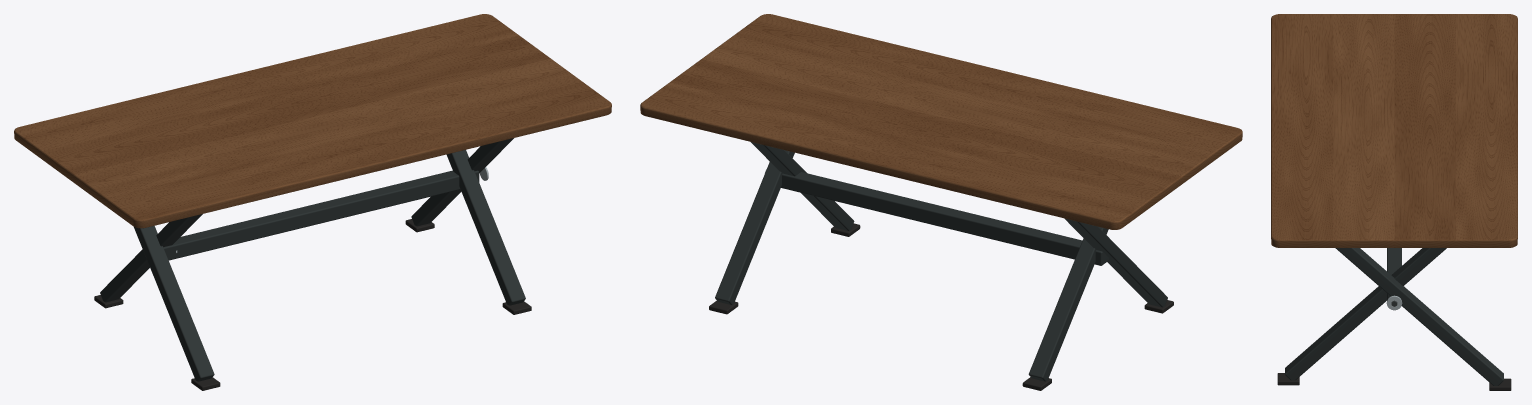
The picture shows the model from 3 angles, left to right: view 1: azimuth 30°, elevation 25°; view 2: azimuth 150°, elevation 25°; view 3: azimuth 270°, elevation 25°; orthographic projection. The views are drawn at different scales.
Visible parts, largest first — view 1: Walnut cross-leg dining top, Longitudinal X-frame tie, Crossed steel blade, Crossed steel blade.002, Crossed steel blade.001, Crossed steel blade.003; view 2: Walnut cross-leg dining top, Longitudinal X-frame tie, Crossed steel blade.003, Crossed steel blade.001, Crossed steel blade, Crossed steel blade.002; view 3: Walnut cross-leg dining top, Crossed steel blade.003, Crossed steel blade.002, Longitudinal X-frame tie.
Part boxes in pixels (x1,y1,x2,y2): Walnut cross-leg dining top: (14,14,611,228); Longitudinal X-frame tie: (163,170,479,260); Crossed steel blade: (134,225,214,381); Crossed steel blade.002: (446,150,525,305); Crossed steel blade.001: (100,214,202,302); Crossed steel blade.003: (411,138,513,226); Walnut cross-leg dining top: (640,14,1242,229); Longitudinal X-frame tie: (781,172,1108,265); Crossed steel blade.003: (715,150,794,304); Crossed steel blade.001: (1028,226,1108,381); Crossed steel blade: (1064,218,1167,307); Crossed steel blade.002: (751,142,854,230); Walnut cross-leg dining top: (1271,14,1517,247); Crossed steel blade.003: (1335,248,1503,385); Crossed steel blade.002: (1285,248,1446,380); Longitudinal X-frame tie: (1387,248,1401,300).
Bounding box in the file's own units: 2.01 × 0.76 × 0.926.
Materials: 7 (2 with a texture image).
